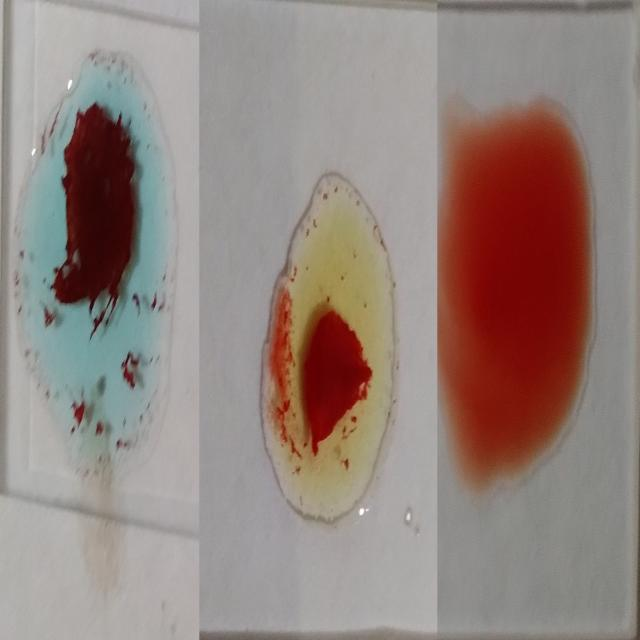A: (19, 45, 175, 472)
B: (271, 167, 399, 529)
